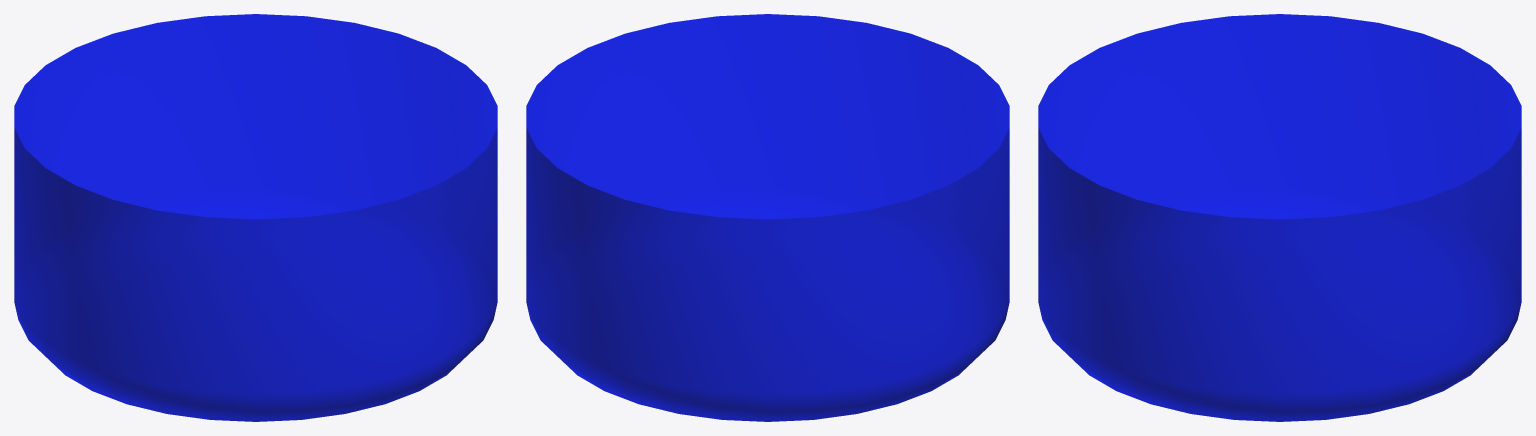
File: SM_硫酸铜液体.FBX
The picture shows the model from 3 angles, left to right: view 1: azimuth 30°, elevation 25°; view 2: azimuth 150°, elevation 25°; view 3: azimuth 270°, elevation 25°; orthographic projection.
Visible parts, largest first — view 1: 对象002; view 2: 对象002; view 3: 对象002.
Part boxes in pixels (<box>): 对象002: <box>14,14,497,421</box>; 对象002: <box>526,14,1009,421</box>; 对象002: <box>1038,14,1521,421</box>.
Size of the model in its own units: 107 by 53.61 by 106.
